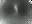person: (14, 5, 19, 16)
